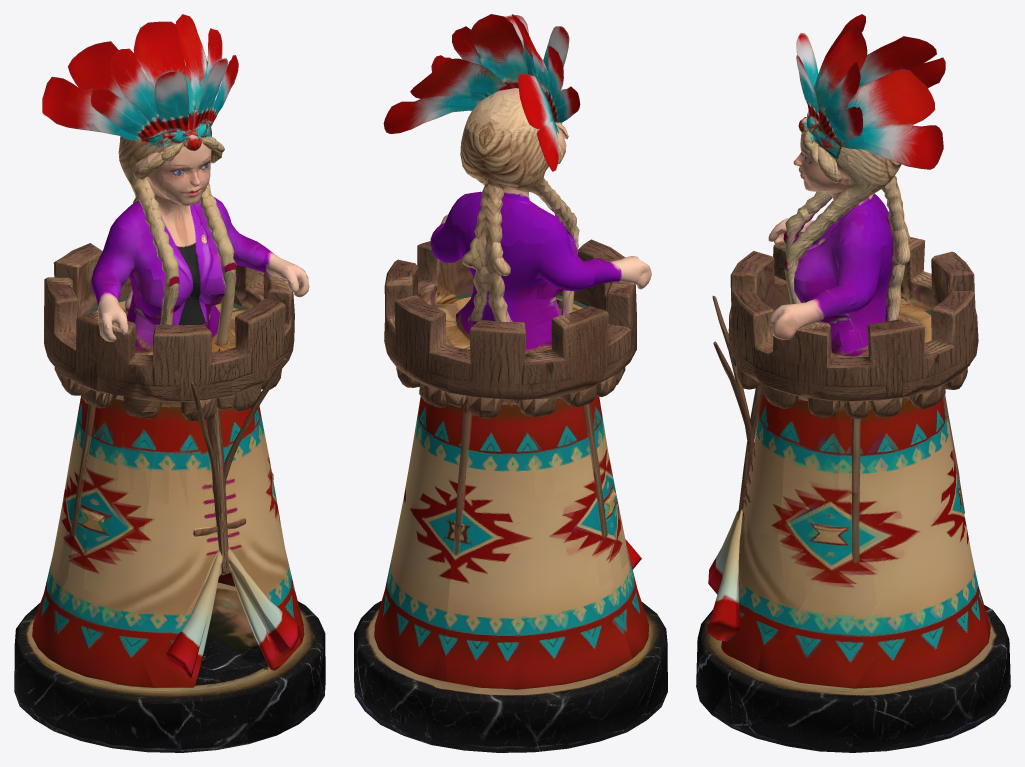
Rendered from left-rook-warren.glb.
3 renders of one model, left to right at view 1: azimuth 30°, elevation 25°; view 2: azimuth 150°, elevation 25°; view 3: azimuth 270°, elevation 25°, orthographic.
Bounding box in the file's own units: 0.4268 × 1 × 0.4287.
1 material, 1 textured.
